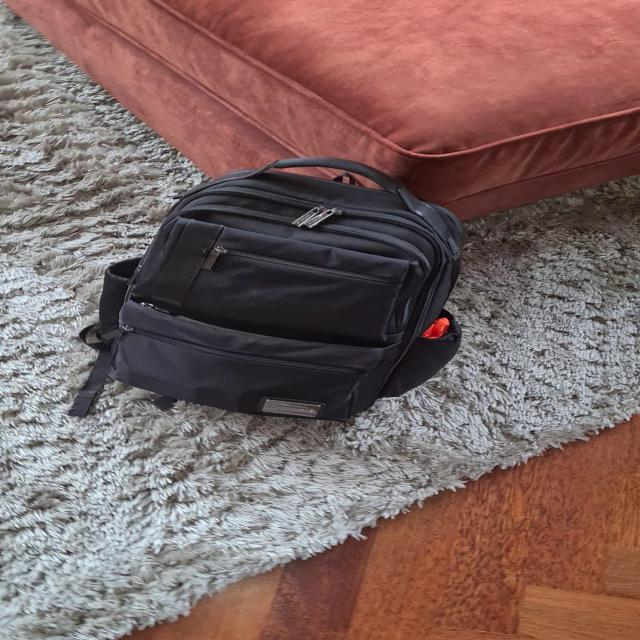backpack: (80, 143, 482, 428)
